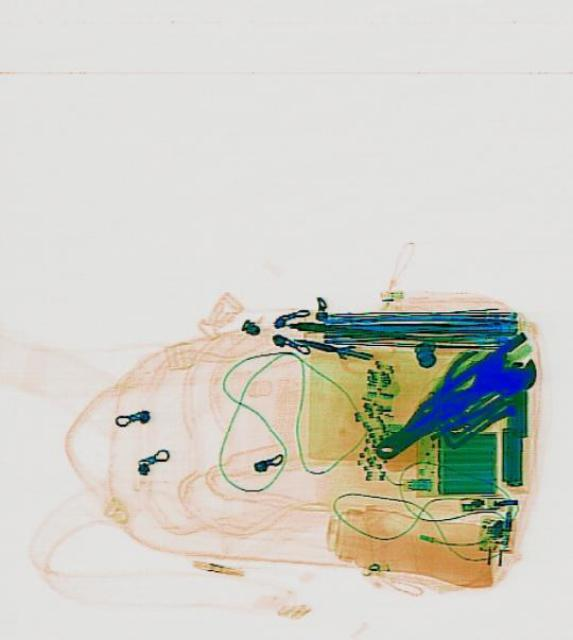Wrench: (358, 334, 540, 468)
